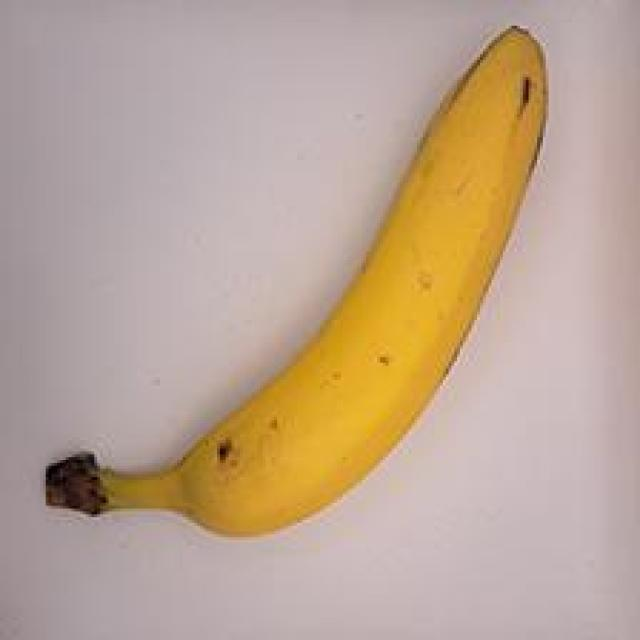Ripe: (29, 9, 582, 564)
